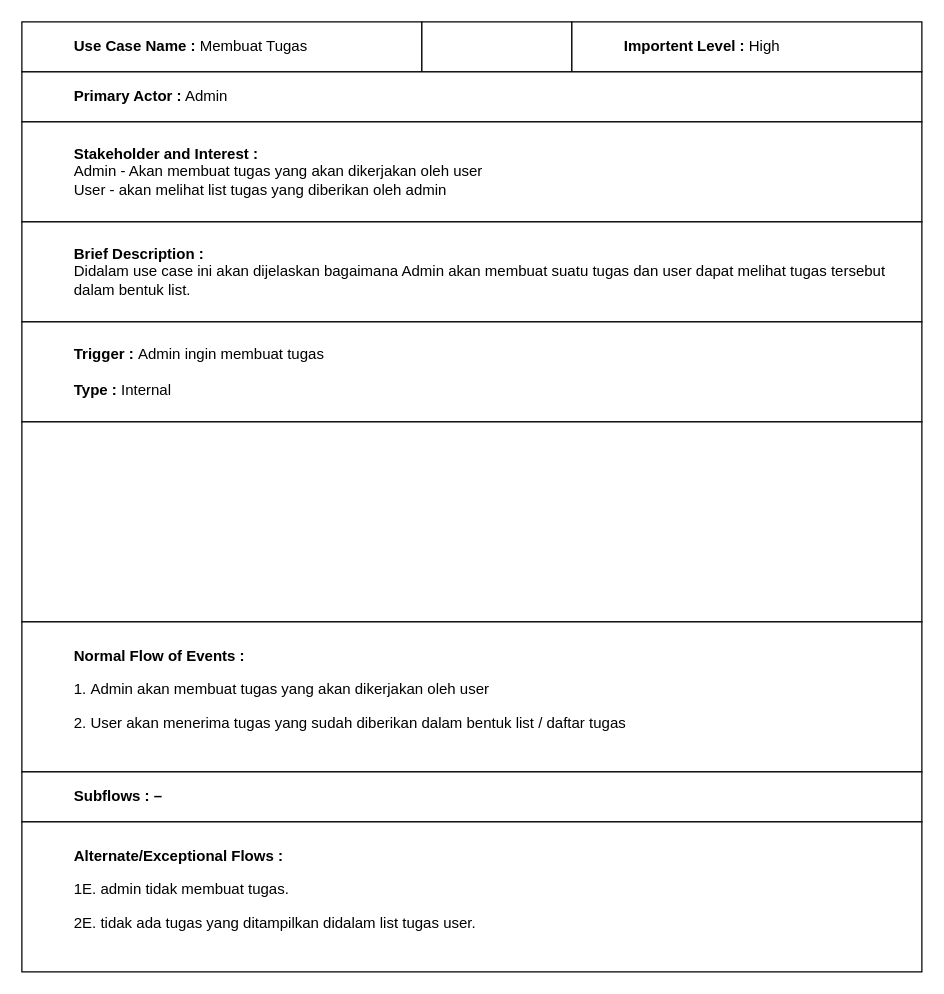
The diagram is 944 pixels wide and 994 high, and some of its shapes have lost their labels. The shapes that lost their labels are listed below. From the top down, each one's centre as x and y in pixels, then its label:
At point (496, 46): "ID : UCD2".
At point (471, 521): "Relationship : Association : Admin Include : – Extend : – Generalization : –".
